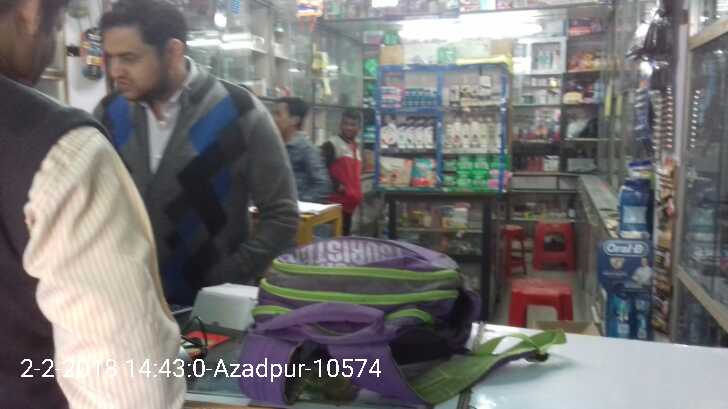vicks: (605, 240, 652, 337), (378, 84, 439, 108)
